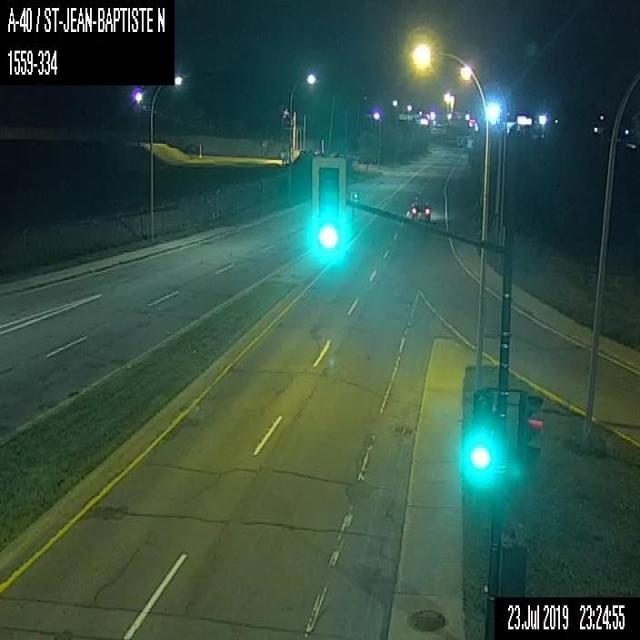vehicle: (407, 200, 429, 221)
